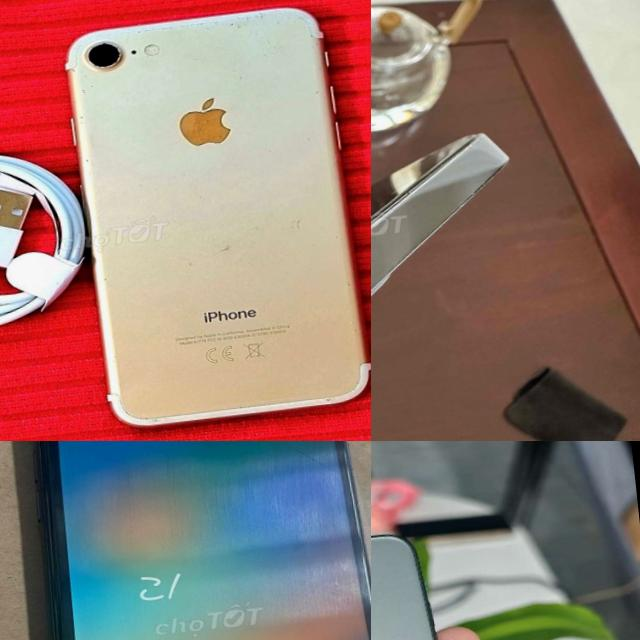gen_11: (371, 521, 489, 640)
gen_12_13: (371, 121, 541, 441)
gen_7_8: (51, 0, 371, 438), (10, 441, 371, 640)
scratch: (107, 4, 313, 54), (262, 208, 332, 276), (66, 78, 95, 172), (174, 233, 243, 263), (77, 40, 128, 72), (95, 259, 108, 289)
